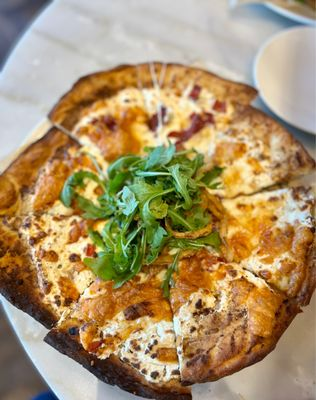sushi: (250, 25, 316, 137)
